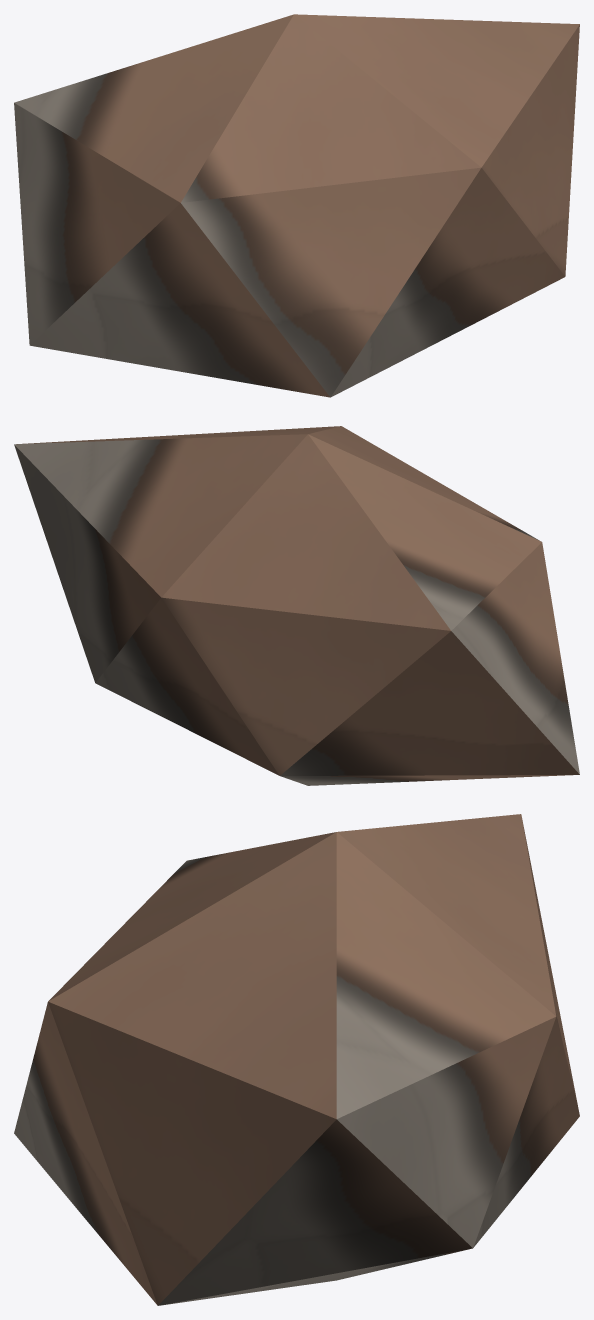
The model's file is CanyonChunk.gltf.
The picture shows the model from 3 angles, top to bottom: view 1: azimuth 30°, elevation 25°; view 2: azimuth 150°, elevation 25°; view 3: azimuth 270°, elevation 25°; orthographic projection. The views are drawn at different scales.
Visible parts, largest first — view 1: CanyonChunk; view 2: CanyonChunk; view 3: CanyonChunk.
Part boxes in pixels (left/top/right/bottom): CanyonChunk: left=14, top=14, right=579, bottom=397; CanyonChunk: left=14, top=426, right=579, bottom=785; CanyonChunk: left=14, top=814, right=579, bottom=1305.
Size of the model in its own units: 1.99 by 1.18 by 1.35.
1 material, 1 textured.
